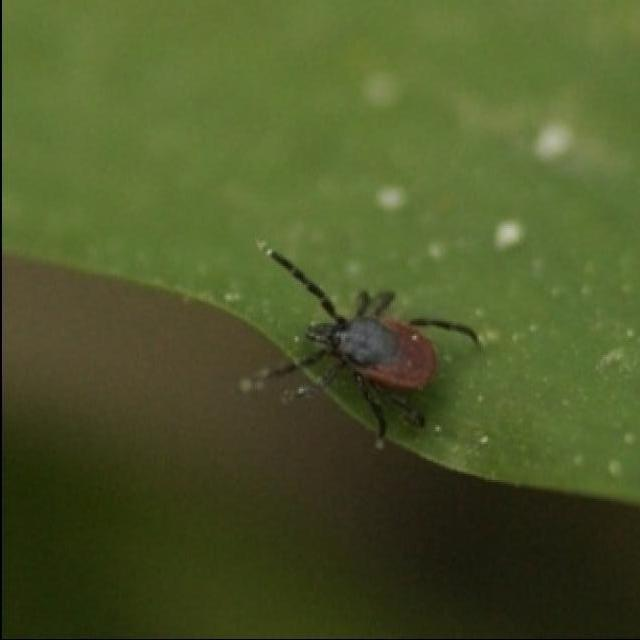Ixodes Ricinus-F: (245, 242, 479, 451)
